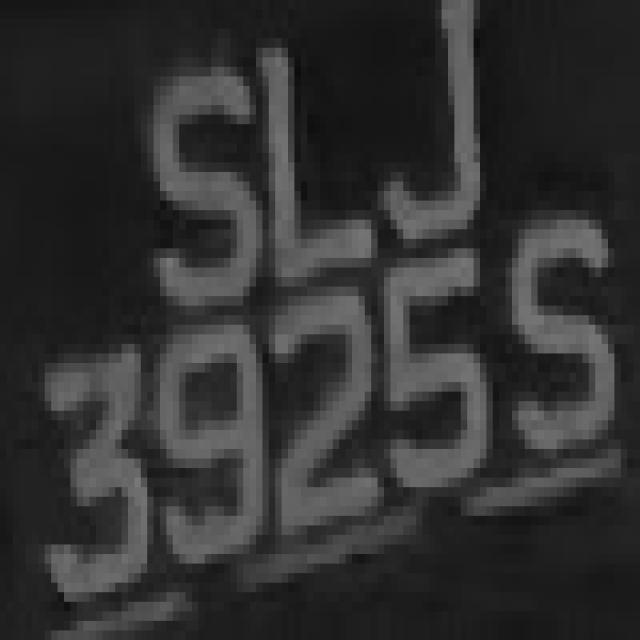2: (250, 277, 378, 573)
3: (0, 5, 2, 10)
5: (365, 248, 512, 526)
9: (141, 306, 275, 582)
J: (352, 9, 493, 239)
L: (243, 38, 371, 287)
S: (115, 48, 269, 344), (487, 200, 628, 497)
